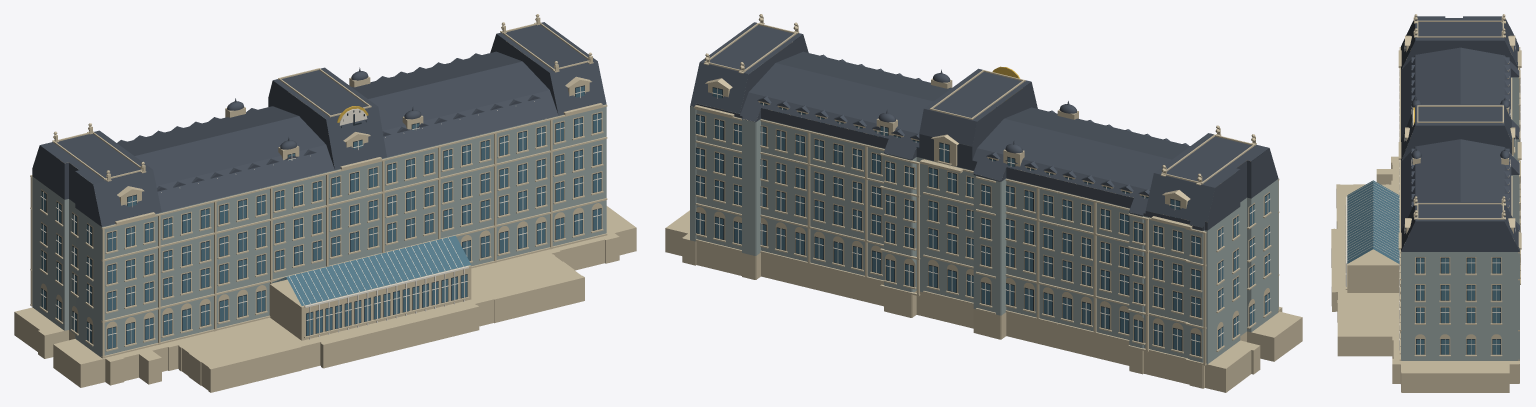
Rendered from amstel-hotel.glb.
3 views of the same model, side by side, from view 1: azimuth 30°, elevation 25°; view 2: azimuth 150°, elevation 25°; view 3: azimuth 270°, elevation 25° (orthographic). The views are drawn at different scales.
Parts seen in each view (by area): view 1: amstel-hotel; view 2: amstel-hotel; view 3: amstel-hotel.
Boxes of the visible parts, <box> form: amstel-hotel: <box>14,14,636,392</box>; amstel-hotel: <box>665,14,1302,392</box>; amstel-hotel: <box>1331,14,1521,392</box>.
Bounding box in the file's own units: 86.58 × 30.65 × 30.74.
